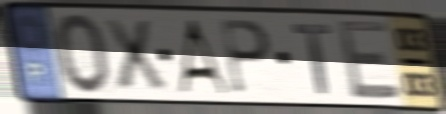A: (174, 17, 232, 97)
E: (334, 17, 405, 102)
O: (52, 11, 113, 97)
P: (218, 17, 273, 98)
T: (290, 22, 334, 97)
X: (99, 17, 171, 93)
